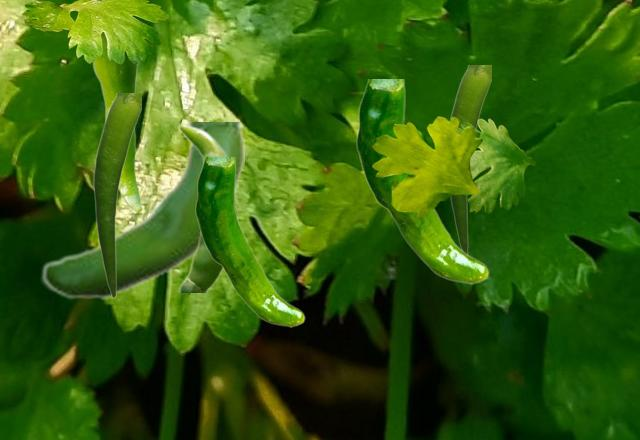green_chili: (40, 122, 243, 300), (356, 79, 488, 283), (195, 157, 304, 326), (177, 122, 238, 291), (93, 93, 140, 297), (92, 34, 140, 211), (449, 65, 490, 252)
